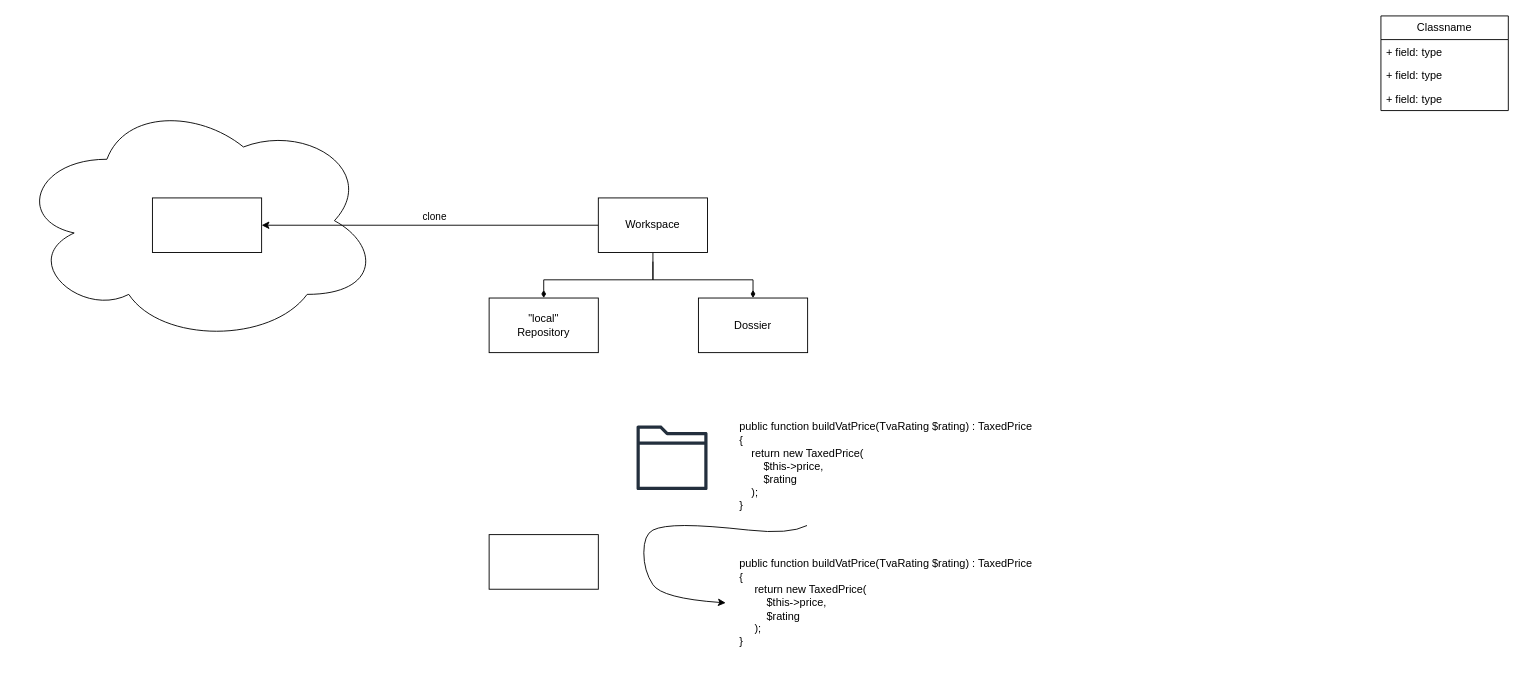
Image size: 1524x678. Some labels were removed from this diagram. The box of each missing label's shape, as (x1, y1, x2, y2) in pixels:
"remote" Repository: (152, 197, 262, 253)
Diff - ...... + ......: (488, 534, 598, 589)
